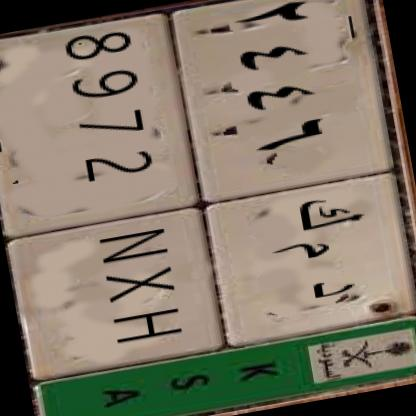english: (0, 12, 227, 373)
